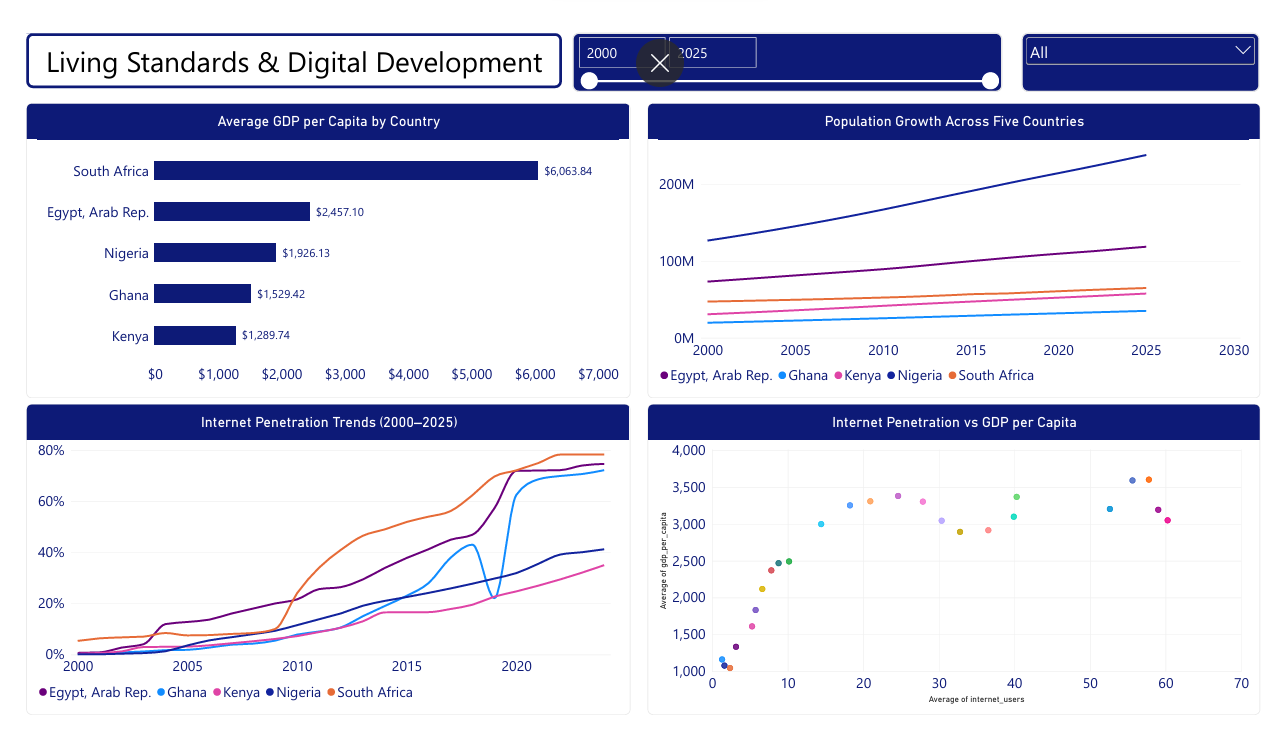

This screenshot's page, from the dashboard's own definition file:
{"tool":"powerbi","page":{"name":"Living Standards & Digital Development","canvas":[1920,1080],"ordinal":2},"visuals":[{"type":"clusteredBarChart","title":"Average GDP per Capita by Country","fields":{"Category":["african_economic_indicators.country"],"Y":["african_economic_indicators.Average GDP per Capita"]},"box":[17.3,125.3,915.8,447.1],"z":0},{"type":"shape","box":[17.3,19.4,812.2,82.1],"z":1000},{"type":"lineChart","title":"Internet Penetration Trends (2000–2025)","fields":{"Category":["african_economic_indicators.year"],"Series":["african_economic_indicators.country"],"Y":["african_economic_indicators.Average Internet Users"]},"box":[17.3,581,915.8,470.9],"z":2000},{"type":"lineChart","title":"Population Growth Across Five Countries","fields":{"Category":["african_economic_indicators.year"],"Series":["african_economic_indicators.country"],"Y":["Sum(african_economic_indicators.population)"]},"box":[959,125.3,928.8,447.1],"z":3000},{"type":"scatterChart","title":"Internet Penetration vs GDP per Capita","fields":{"Category":["african_economic_indicators.country","african_economic_indicators.year"],"X":["Avg(african_economic_indicators.internet_users)"],"Y":["Avg(african_economic_indicators.gdp_per_capita)"]},"box":[959,581,929,471],"z":4000},{"type":"slicer","fields":{"Values":["african_economic_indicators.year"]},"box":[845.1,18.5,652.3,89.8],"z":5000},{"type":"slicer","fields":{"Values":["african_economic_indicators.country"]},"box":[1526.5,18.5,361,89.8],"z":6000}]}

Visuals, with their boxes on the page's 1920x1080 design canvas (x1, y1, x2, y2). These are canvas units, not pixel positions in the 1279x749 screenshot, which may show the page scaled, cropped or inside an application window:
"Average GDP per Capita by Country" clusteredBarChart: Rect(17, 125, 933, 572)
shape: Rect(17, 19, 830, 102)
"Internet Penetration Trends (2000–2025)" lineChart: Rect(17, 581, 933, 1052)
"Population Growth Across Five Countries" lineChart: Rect(959, 125, 1888, 572)
"Internet Penetration vs GDP per Capita" scatterChart: Rect(959, 581, 1888, 1052)
slicer - african_economic_indicators.year: Rect(845, 18, 1497, 108)
slicer - african_economic_indicators.country: Rect(1526, 18, 1888, 108)
